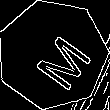M_NW: (18, 21, 87, 88)
